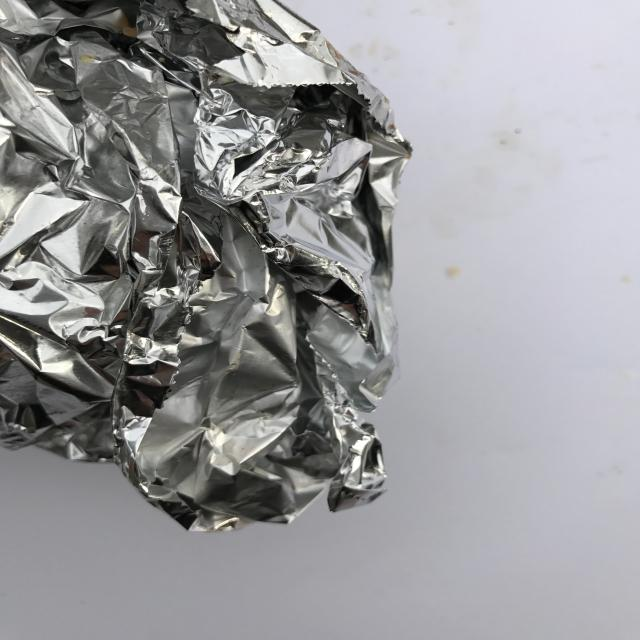metal: (1, 0, 412, 533)
